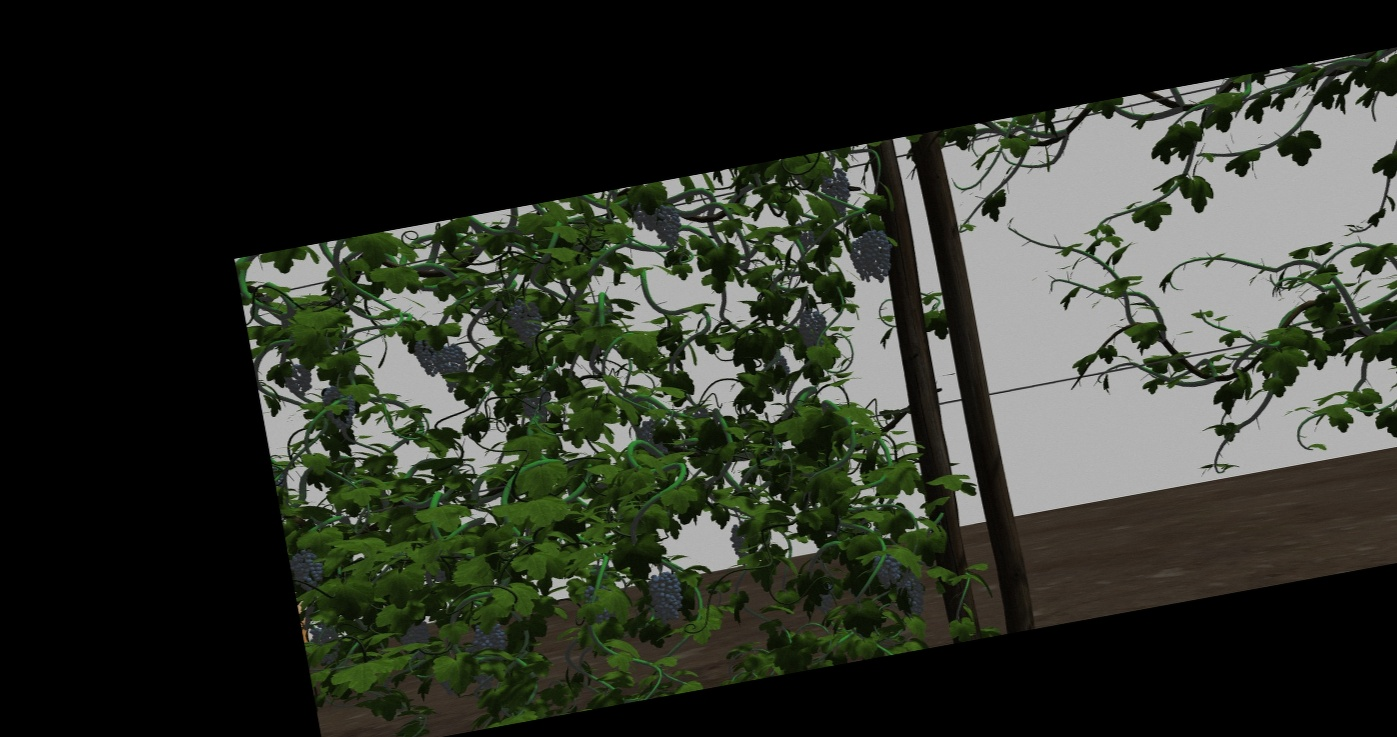grape: (647, 570, 684, 624), (508, 299, 544, 349), (864, 228, 894, 282), (436, 345, 469, 391), (650, 204, 682, 248), (323, 386, 356, 428), (823, 169, 850, 216), (292, 551, 323, 589), (411, 339, 440, 377), (474, 623, 507, 656), (798, 311, 827, 347), (874, 553, 902, 589), (284, 364, 313, 397), (849, 239, 870, 284), (902, 577, 926, 616)
